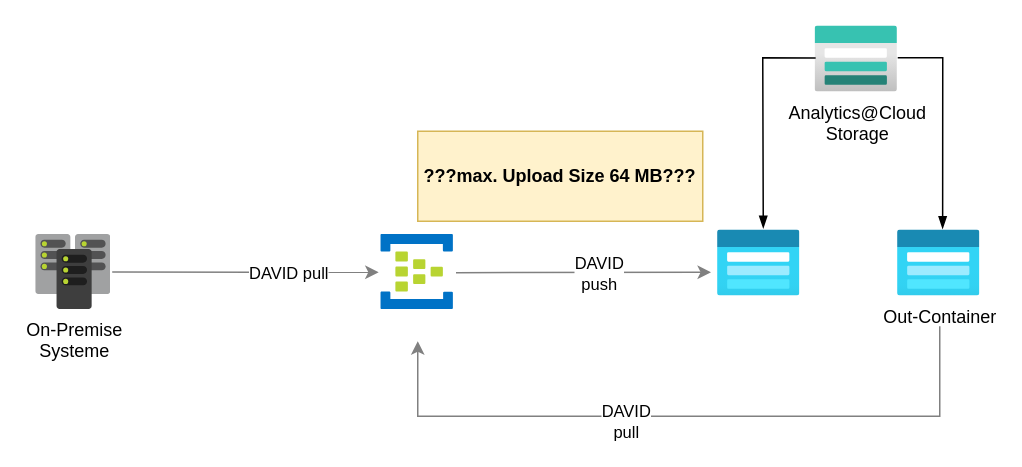
This 1022x467 diagram has some shape labels left out. The centre of each missing label's shape, as x and y in pixels:
DAVID: [416,271]
In-Container: [758,263]
